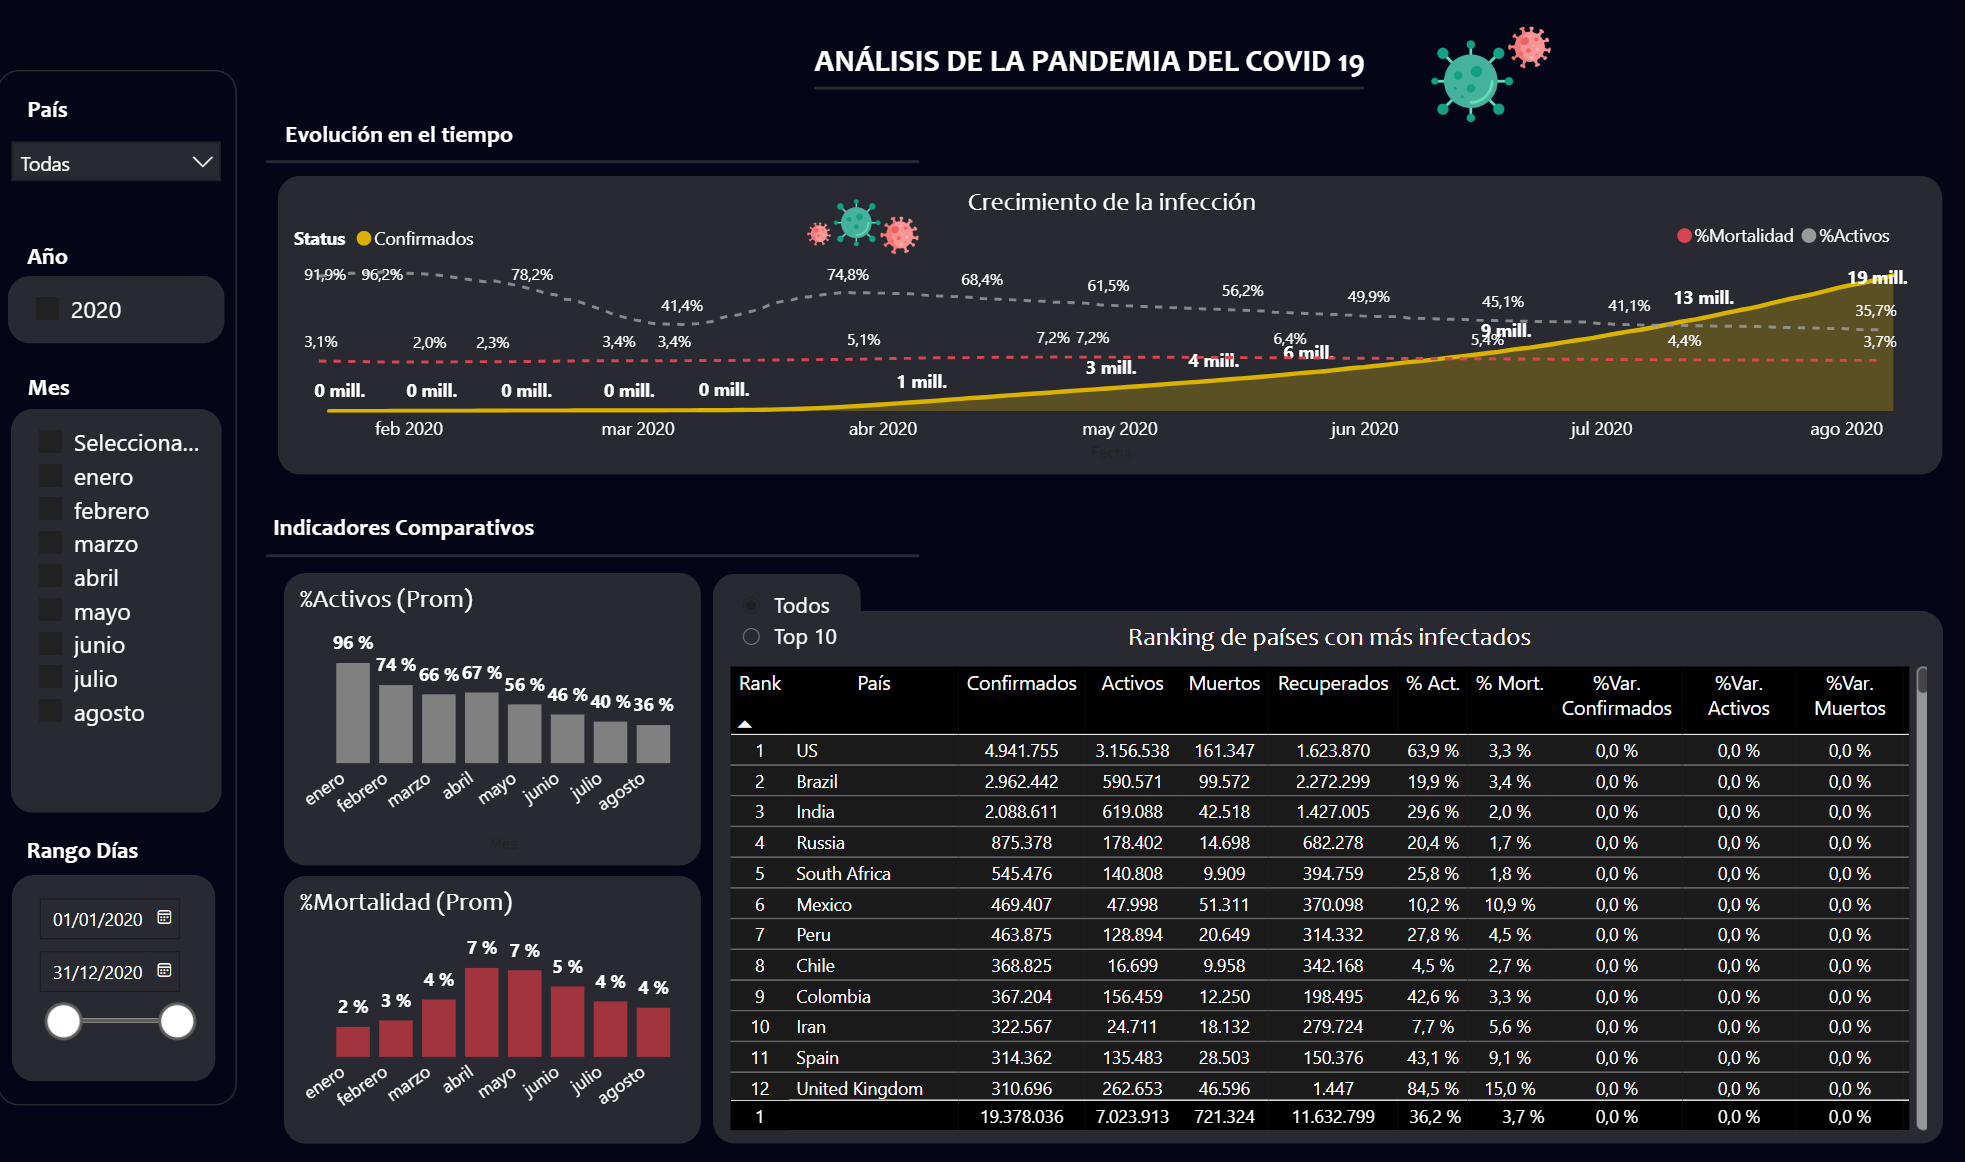

The dashboard page shown, as its layout file describes it:
{"tool":"powerbi","page":{"name":"DETALLE","canvas":[1380,800],"ordinal":1},"visuals":[{"type":"tableEx","title":"Ranking de países con más infectados (total mes)","fields":{"Values":["COVID19 - ACTUAL.Ranking","LOCATIONS.Country/Region","COVID19 - ACTUAL.DIF_Confirmados_Mensual","COVID19 - ACTUAL.CONFIRMADOS_U_S","COVID19 - ACTUAL.%Var_Confirmados_Mensual","COVID19 - ACTUAL.DIF_Activos_Mensual","COVID19 - ACTUAL.ACTIVOS_U_S","COVID19 - ACTUAL.%Var_Activos_Mensual","COVID19 - ACTUAL.DIF_Muertos_Mensual","COVID19 - ACTUAL.MUERTOS_U_S","COVID19 - ACTUAL.%Var_Muertos_Mensual","COVID19 - ACTUAL.%Activos_U_S"]},"box":[477.9,412.6,890.3,364.4],"z":0},{"type":"textbox","box":[8.9,9.6,164.1,773.3],"z":1000},{"type":"slicer","fields":{"Values":["LOCATIONS.Country/Region"]},"box":[8.9,87.7,163.2,68.3],"z":2000},{"type":"slicer","fields":{"Values":["MiCalendarioAuto.Date"]},"box":[19.1,599,138.8,148.4],"z":3000},{"type":"columnChart","title":"%Casos Activos (prom. por día)","fields":{"Category":["MiCalendarioAuto.Date.Variación.Jerarquía de fechas.Mes"],"Y":["COVID19 - GENERAL.%Recuperación_T"]},"box":[183.9,384.6,289.2,192.8],"z":4000},{"type":"clusteredColumnChart","title":"%Mortalidad (prom. por día)","fields":{"Category":["MiCalendarioAuto.Date.Variación.Jerarquía de fechas.Mes"],"Y":["COVID19 - GENERAL.%Mortalidad_T"]},"box":[183.9,593.1,289.2,183.9],"z":5000},{"type":"textbox","box":[17.5,567.9,99.3,42.9],"z":6000},{"type":"textbox","box":[8.7,161.7,69.3,42.7],"z":7000},{"type":"textbox","box":[9.3,250.9,69.3,41.3],"z":8000},{"type":"textbox","box":[8.9,61.2,69.3,44],"z":9000},{"type":"slicer","fields":{"Values":["MiCalendarioAuto.Date.Variación.Jerarquía de fechas.Mes"]},"box":[20.5,280.3,144.3,276.2],"z":10000},{"type":"slicer","fields":{"Values":["MiCalendarioAuto.Año"]},"box":[16.6,189.3,148.4,46],"z":11000},{"type":"textbox","box":[541.5,24.3,411.2,46.2],"z":12000},{"type":"areaChart","title":"Crecimiento de la infección","fields":{"Category":["COVID19 - GENERAL.Fecha"],"Y":["Sum(COVID19 - GENERAL.Casos)"],"Series":["COVID19 - GENERAL.Status"]},"box":[183.9,121,1184.3,203.8],"z":13000},{"type":"lineChart","title":"Evolución de la infección","fields":{"Category":["COVID19 - GENERAL.Fecha"],"Y":["COVID19 - GENERAL.%Mortalidad_T","COVID19 - GENERAL.%Recuperación_T"]},"box":[202.4,141.5,1144.6,113.5],"z":14000},{"type":"slicer","fields":{"Values":["Filtro_TOP.Modo"]},"box":[477.9,384.6,101.2,61.5],"z":15000},{"type":"textbox","box":[183.9,78.6,274.9,45.8],"z":16000},{"type":"textbox","box":[184,340.8,205.3,45.3],"z":17000},{"type":"shape","box":[184.1,102.2,446.7,18.7],"z":18000},{"type":"shape","box":[184,368.8,446.7,12],"z":19000},{"type":"image","box":[566.3,131.9,44.4,41.6],"z":20000},{"type":"image","box":[549.1,147.7,25.8,25.8],"z":21000},{"type":"shape","box":[559,54.3,376.2,13.8],"z":22000},{"type":"image","box":[975.8,23.3,66.2,66.2],"z":23000},{"type":"image","box":[1028.3,9.5,38.8,47.5],"z":24000},{"type":"image","box":[592.1,143.4,50.2,35.8],"z":25000},{"type":"textbox","box":[1124.8,771.3,255,28.7],"z":26000}]}

Visuals, with their boxes in screenshot pixels (x1, y1, x2, y2), scaled from the page's 1380x800 canvas onto the 1965x1162 screenshot:
"Ranking de países con más infectados (total mes)" tableEx: 680 599 1948 1129
textbox: 13 14 246 1137
slicer - LOCATIONS.Country/Region: 13 127 245 227
slicer - MiCalendarioAuto.Date: 27 870 225 1086
"%Casos Activos (prom. por día)" columnChart: 262 559 674 839
"%Mortalidad (prom. por día)" clusteredColumnChart: 262 861 674 1129
textbox: 25 825 166 887
textbox: 12 235 111 297
textbox: 13 364 112 424
textbox: 13 89 111 153
slicer - MiCalendarioAuto.Date.Variación.Jerarquía de fechas.Mes: 29 407 235 808
slicer - MiCalendarioAuto.Año: 24 275 235 342
textbox: 771 35 1357 102
"Crecimiento de la infección" areaChart: 262 176 1948 472
"Evolución de la infección" lineChart: 288 206 1918 370
slicer - Filtro_TOP.Modo: 680 559 825 648
textbox: 262 114 653 181
textbox: 262 495 554 561
shape: 262 148 898 176
shape: 262 536 898 553
image: 806 192 870 252
image: 782 215 819 252
shape: 796 79 1332 99
image: 1389 34 1484 130
image: 1464 14 1519 83
image: 843 208 915 260
textbox: 1602 1120 1964 1161
